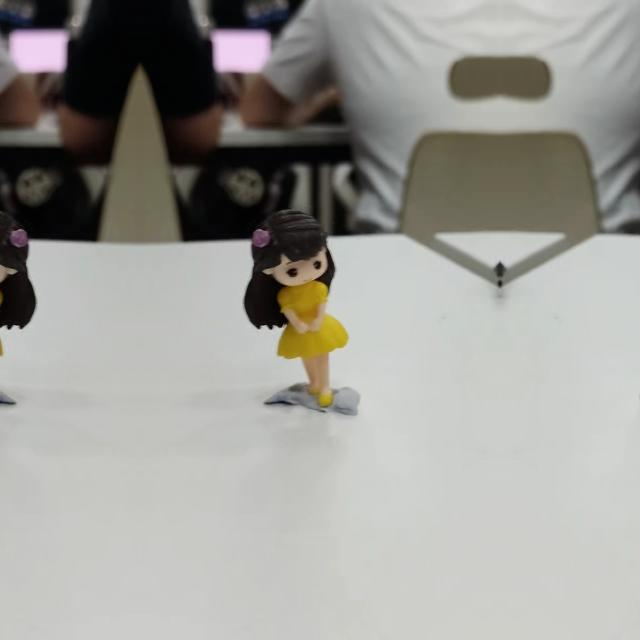woman head: (246, 209, 332, 287), (0, 209, 34, 287)
